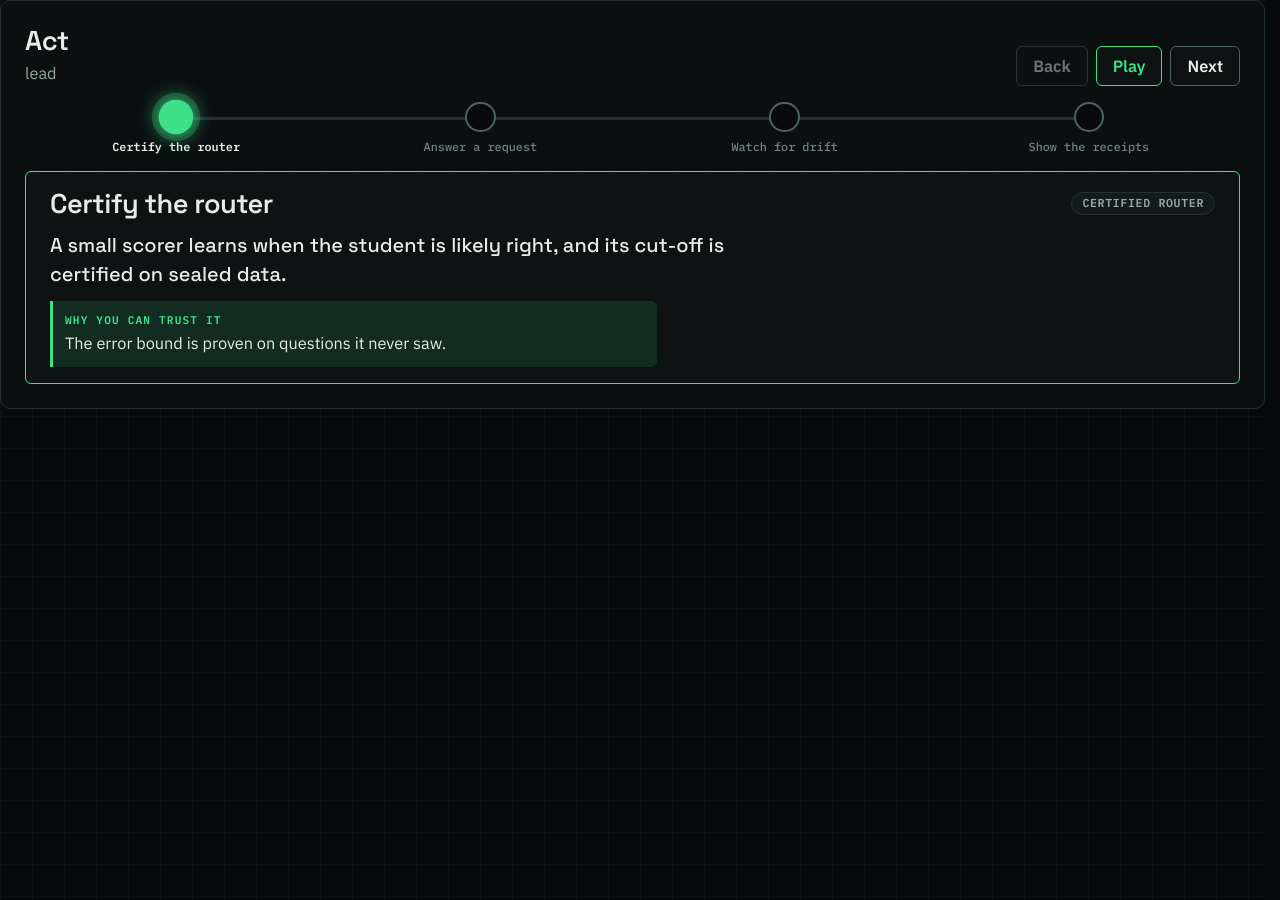
Test: How it works tour › Play walks on its own, stops at the end, and a manual move pauses it
This screenshot has width=1280, height=900.
Step 1. Click the button "Play" → (1129, 66), box [1096,46,1162,86]
Wait 2800 ms
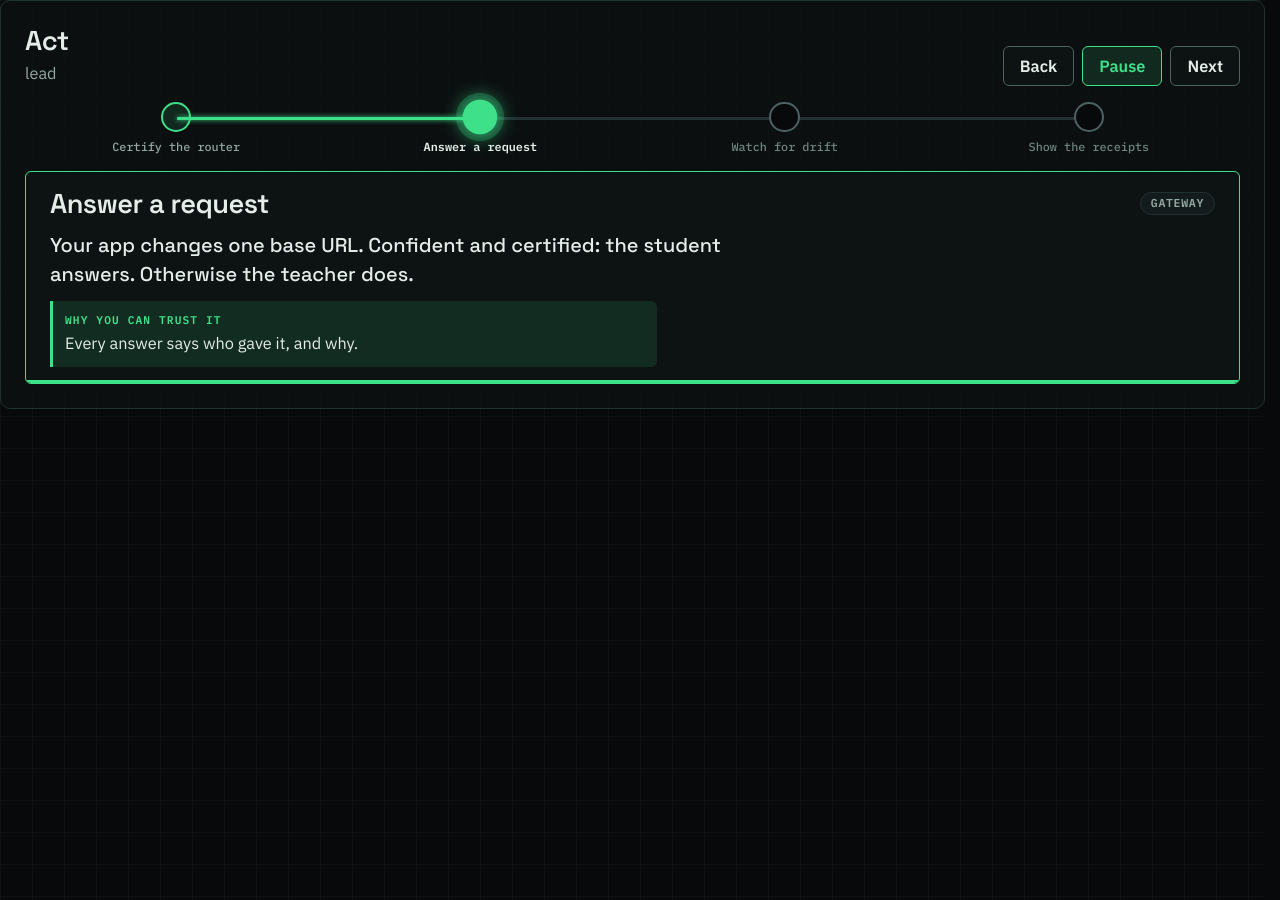
Expected: the heading "Answer a request" is shown, [50,188,269,219]
Step 2. Click the button "Next" → (1205, 66), box [1170,46,1240,86]
Wait 10000 ms
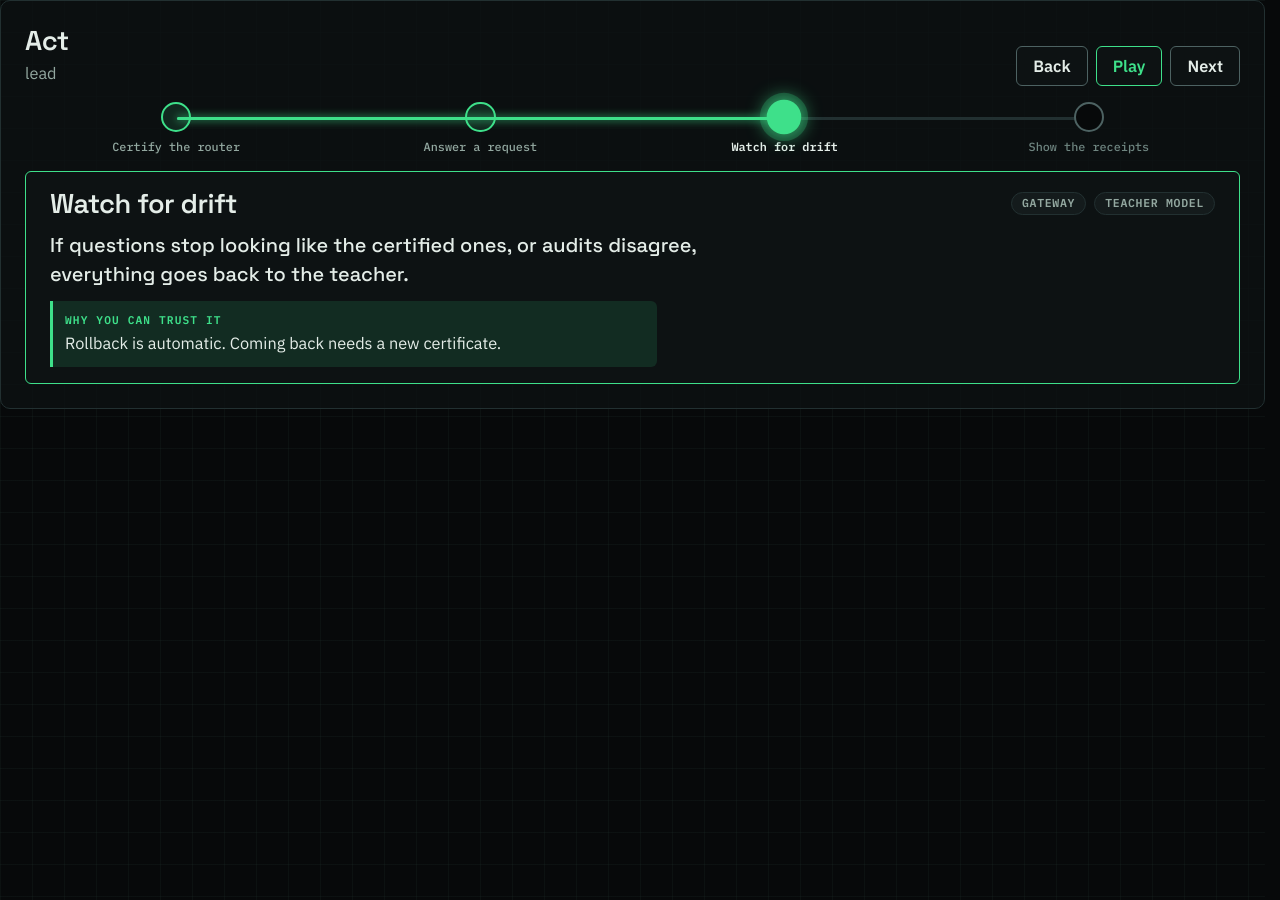
Expected: the heading "Watch for drift" is shown, [50,188,237,219]
Step 3. Click the button "Play" → (1129, 66), box [1096,46,1162,86]
Wait 14000 ms
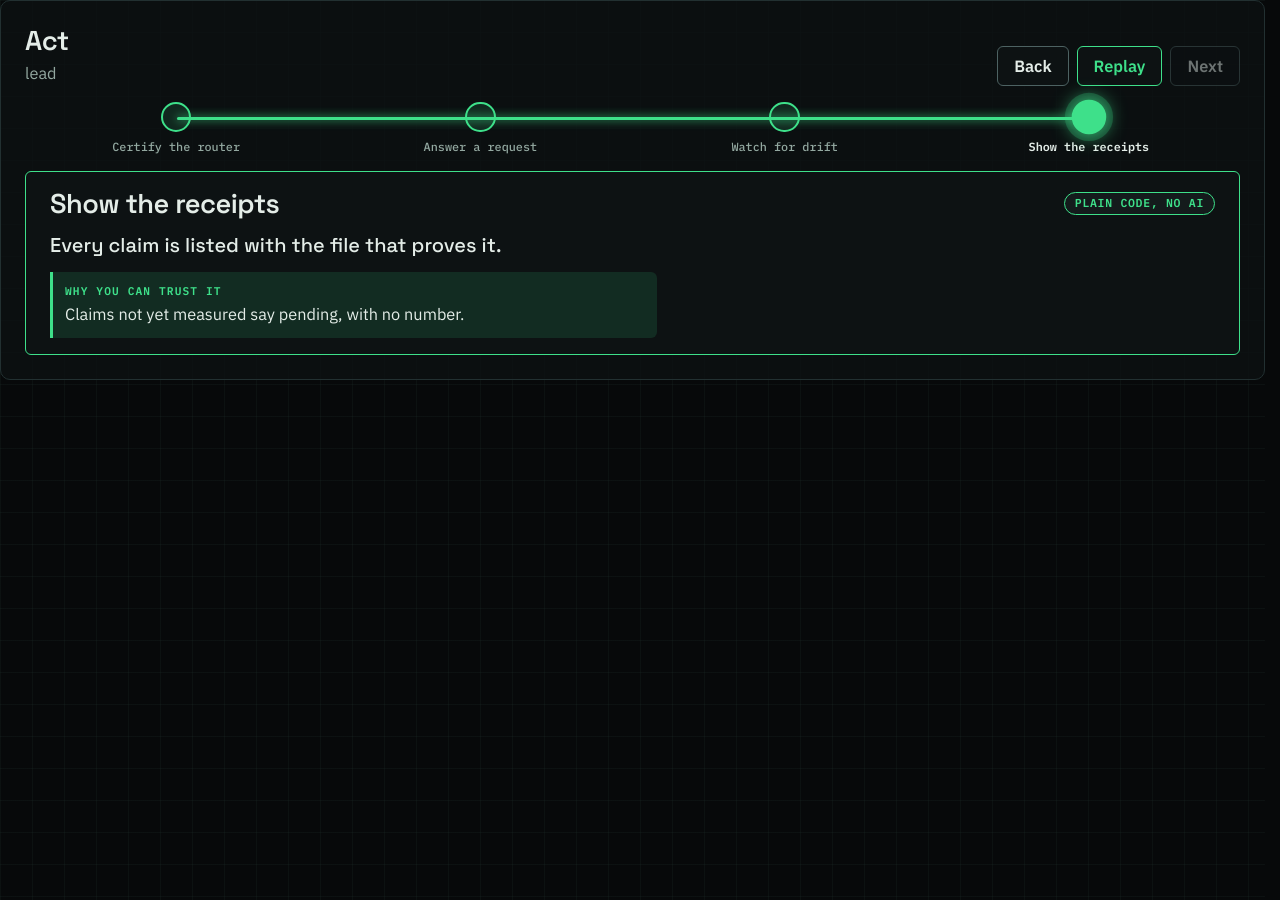
Expected: the heading "Show the receipts" is shown, [50,188,279,219]
Expected: the button "Replay" is shown, [1077,46,1162,86]
